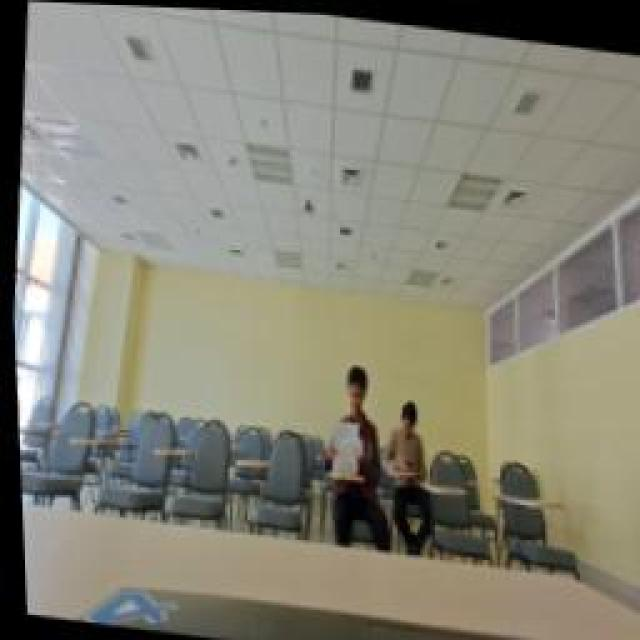phone: (375, 392, 427, 470)
study: (315, 355, 385, 480)
